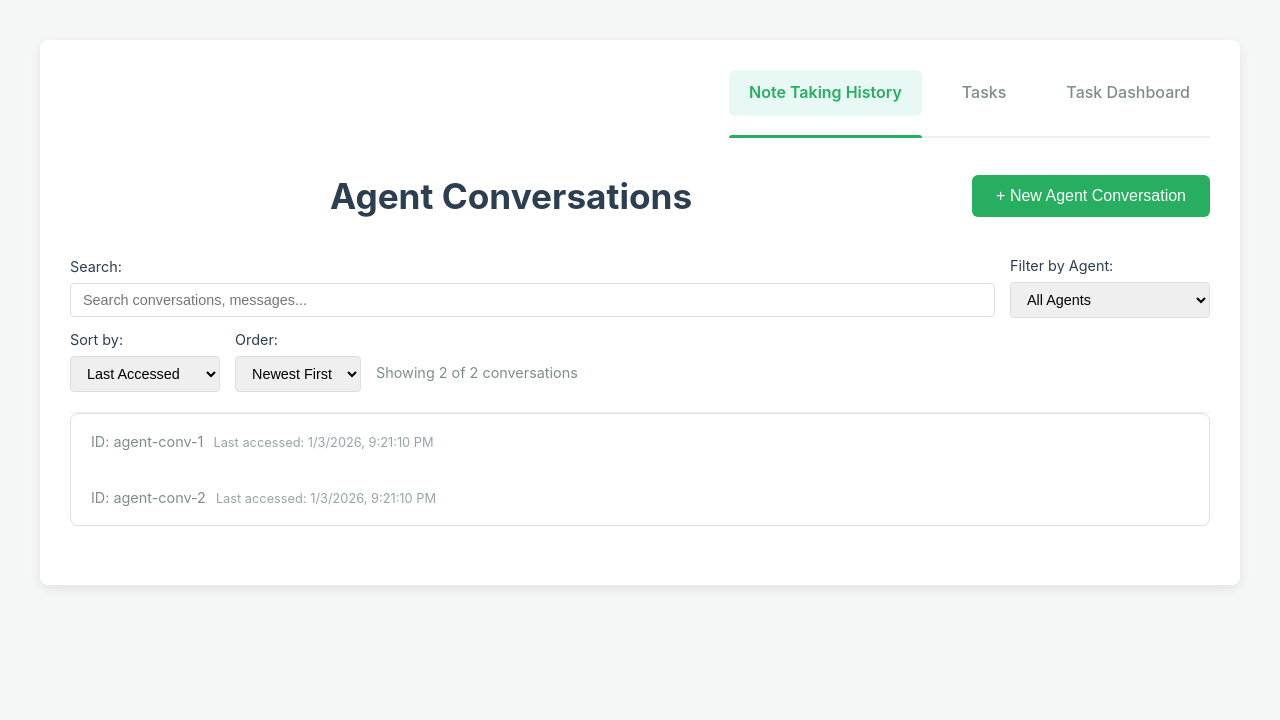
it: AgentConversationListView › New conversation creation › disables button during creation
Check: the text "ID: agent-conv-1" is shown, box [91,433,203,450]
Click the button "+ New Agent Conversation" at x=1091, y=196, box [972,175,1210,217]
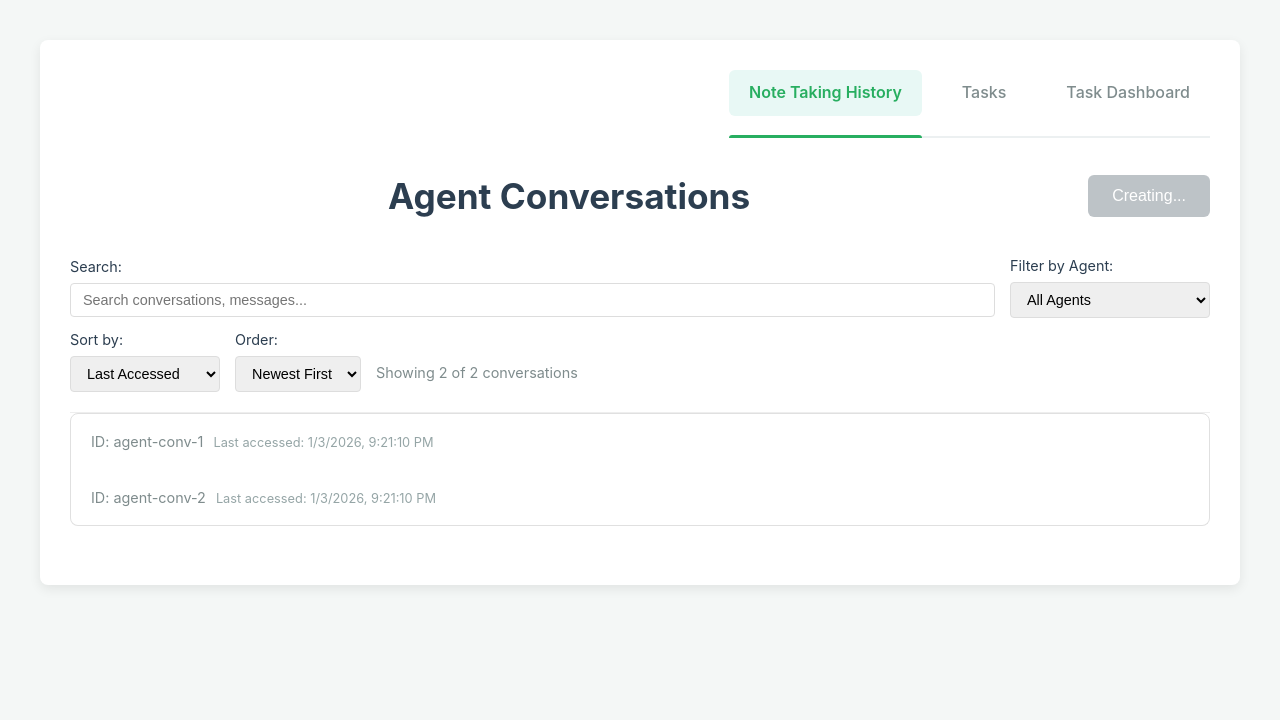
Check: the button named "+ new agent conversation" is disabled, box [1088,175,1210,217]
